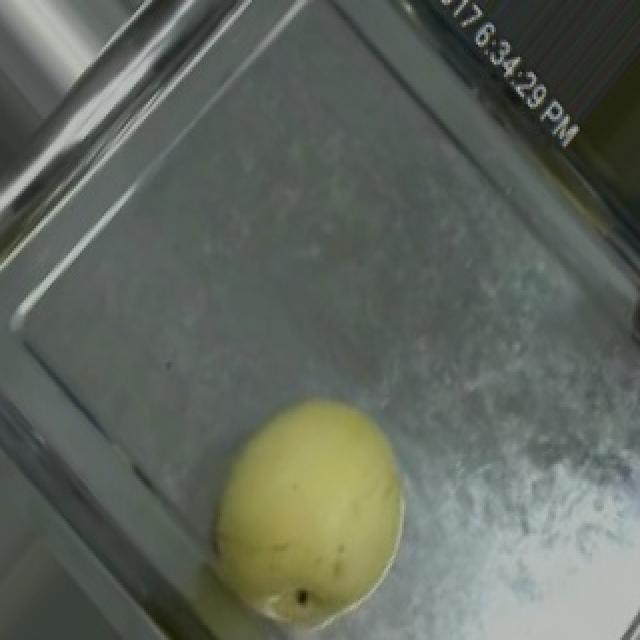Fruit: (170, 364, 440, 640)
